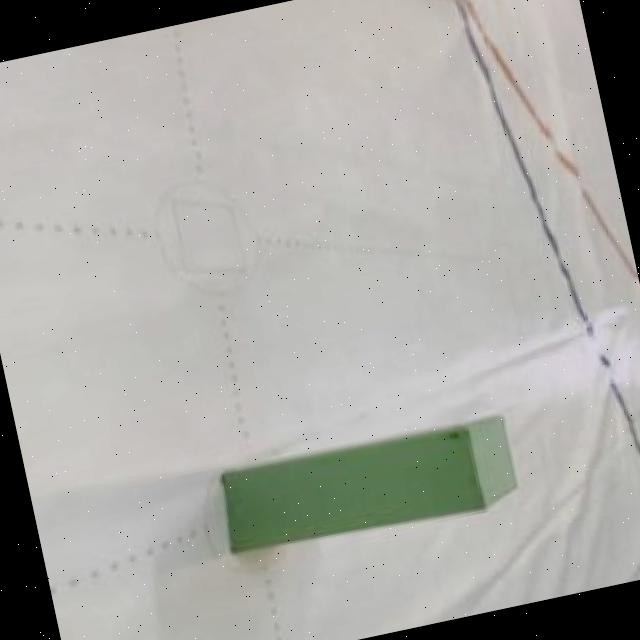greenbox: (217, 407, 527, 566)
